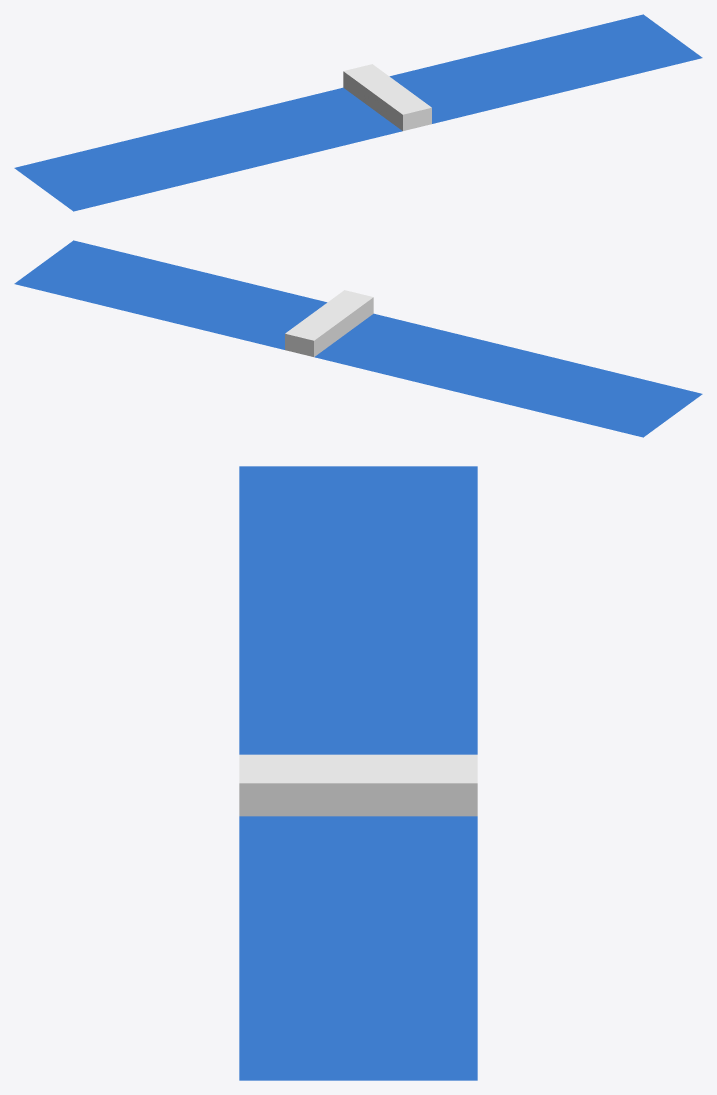
The model's file is RoadHolesLeft.fbx.
3 renders of one model, top to bottom at view 1: azimuth 30°, elevation 25°; view 2: azimuth 150°, elevation 25°; view 3: azimuth 270°, elevation 25°, orthographic. The views are drawn at different scales.
Visible parts, largest first — view 1: RoadHolesLeft; view 2: RoadHolesLeft; view 3: RoadHolesLeft.
Part boxes in pixels (x1,y1,x2,y2): RoadHolesLeft: (14,14,702,211); RoadHolesLeft: (14,240,702,437); RoadHolesLeft: (239,466,477,1080).
Size of the model in its own units: 3902 by 97.53 by 640.
